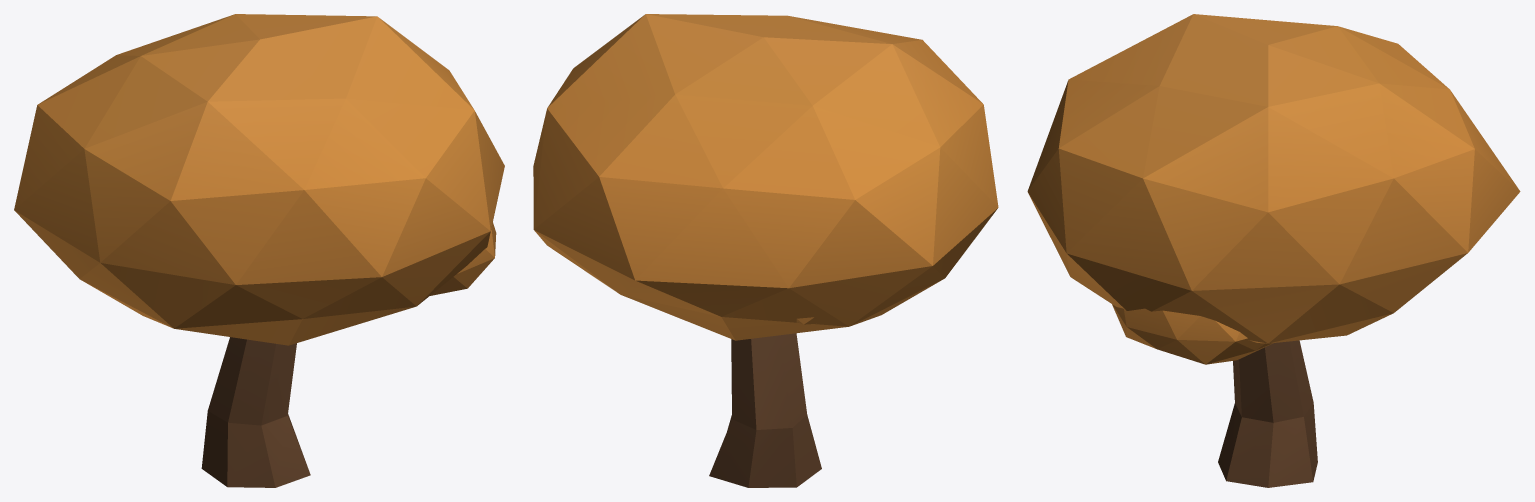
File: Ghibli_Tree_C.glb
3 views of the same model, side by side, from view 1: azimuth 30°, elevation 25°; view 2: azimuth 150°, elevation 25°; view 3: azimuth 270°, elevation 25° (orthographic).
Visible parts, largest first — view 1: GhibliTreeC; view 2: GhibliTreeC; view 3: GhibliTreeC.
Part boxes in pixels (bbox=[...]): GhibliTreeC: bbox=[14, 14, 504, 487]; GhibliTreeC: bbox=[533, 14, 998, 487]; GhibliTreeC: bbox=[1027, 14, 1520, 487].
Bounding box in the file's own units: 2.64 × 2.6 × 2.76.
